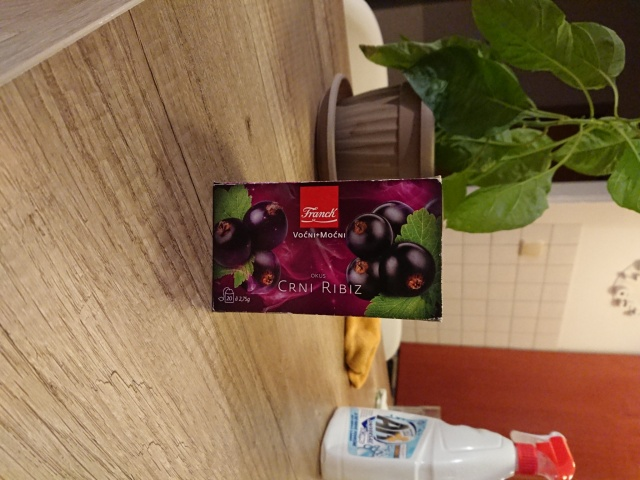Franck Black Currant Tea 60g: (208, 172, 447, 325)
